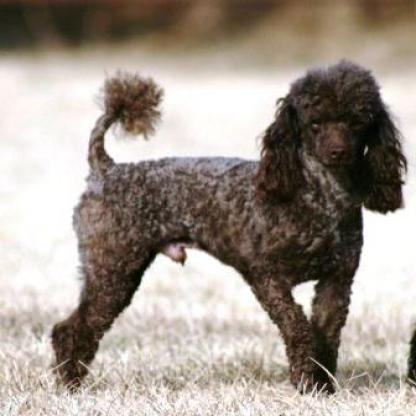miniature_poodle: (47, 60, 410, 391)
